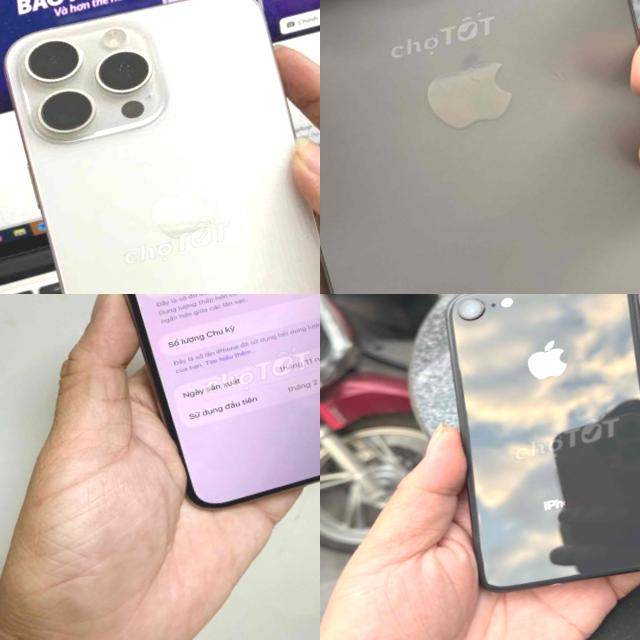gen_15: (0, 0, 320, 294), (320, 0, 640, 294), (71, 294, 320, 525)
gen_7_8: (409, 294, 640, 609)
